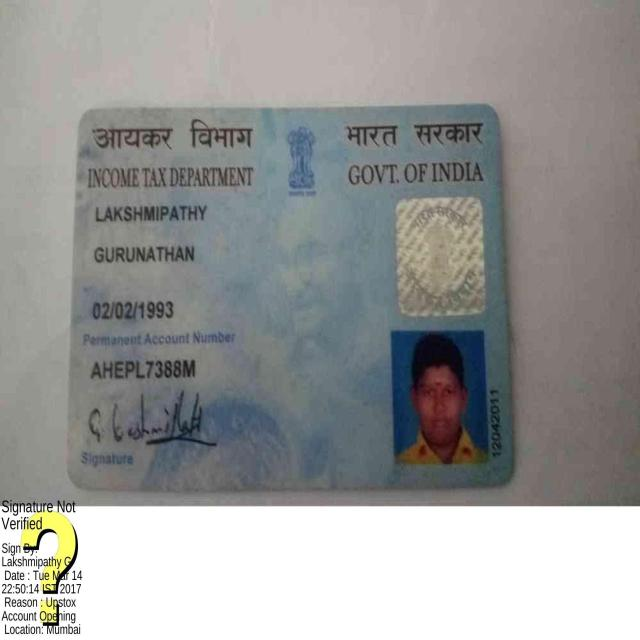pan_card: (79, 110, 504, 488)
